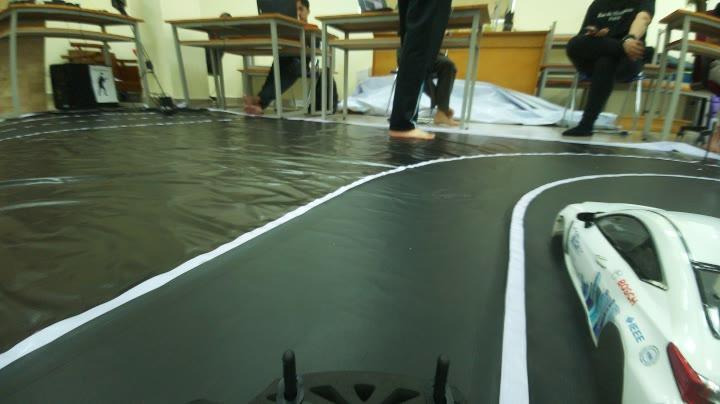car: (544, 164, 720, 404)
